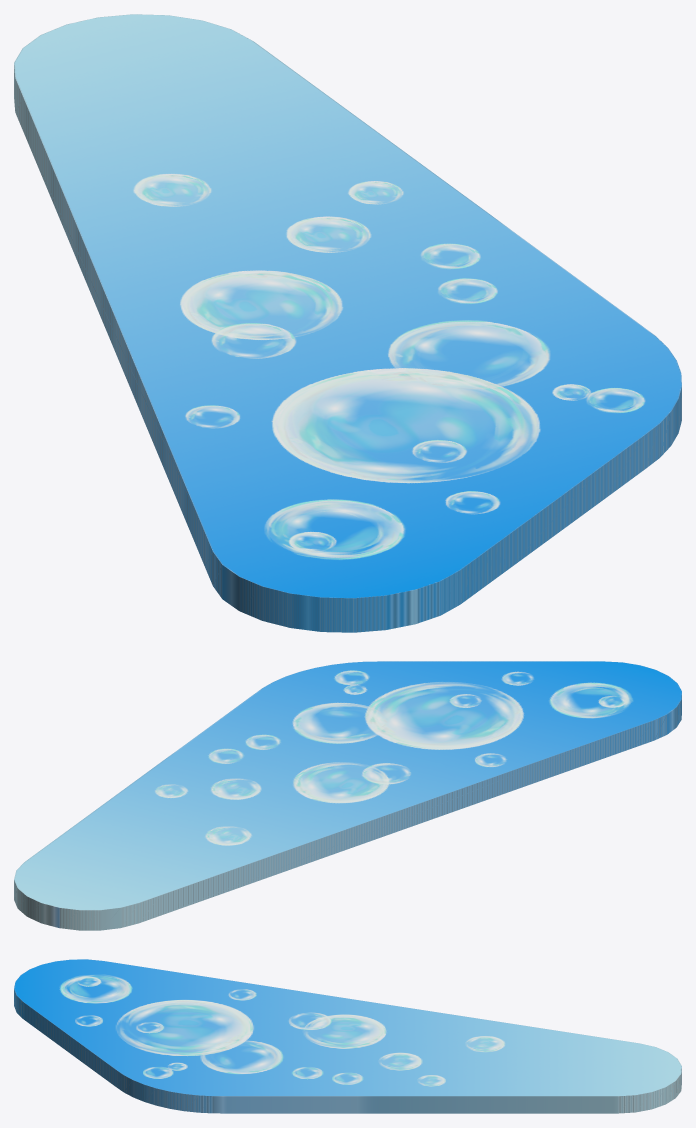
Rendered from F_slingshot_top_plate.fbx.
The picture shows the model from 3 angles, top to bottom: view 1: azimuth 30°, elevation 25°; view 2: azimuth 150°, elevation 25°; view 3: azimuth 270°, elevation 25°; orthographic projection. The views are drawn at different scales.
Parts seen in each view (by area): view 1: top_plate_1; view 2: top_plate_1; view 3: top_plate_1.
Boxes of the visible parts, box(x1,y1,x2,y2) form: top_plate_1: box(14, 14, 681, 632); top_plate_1: box(14, 661, 681, 930); top_plate_1: box(14, 959, 681, 1113).
Bounding box in the file's own units: 0.852 × 0.05 × 1.76.
1 material, 1 textured.
